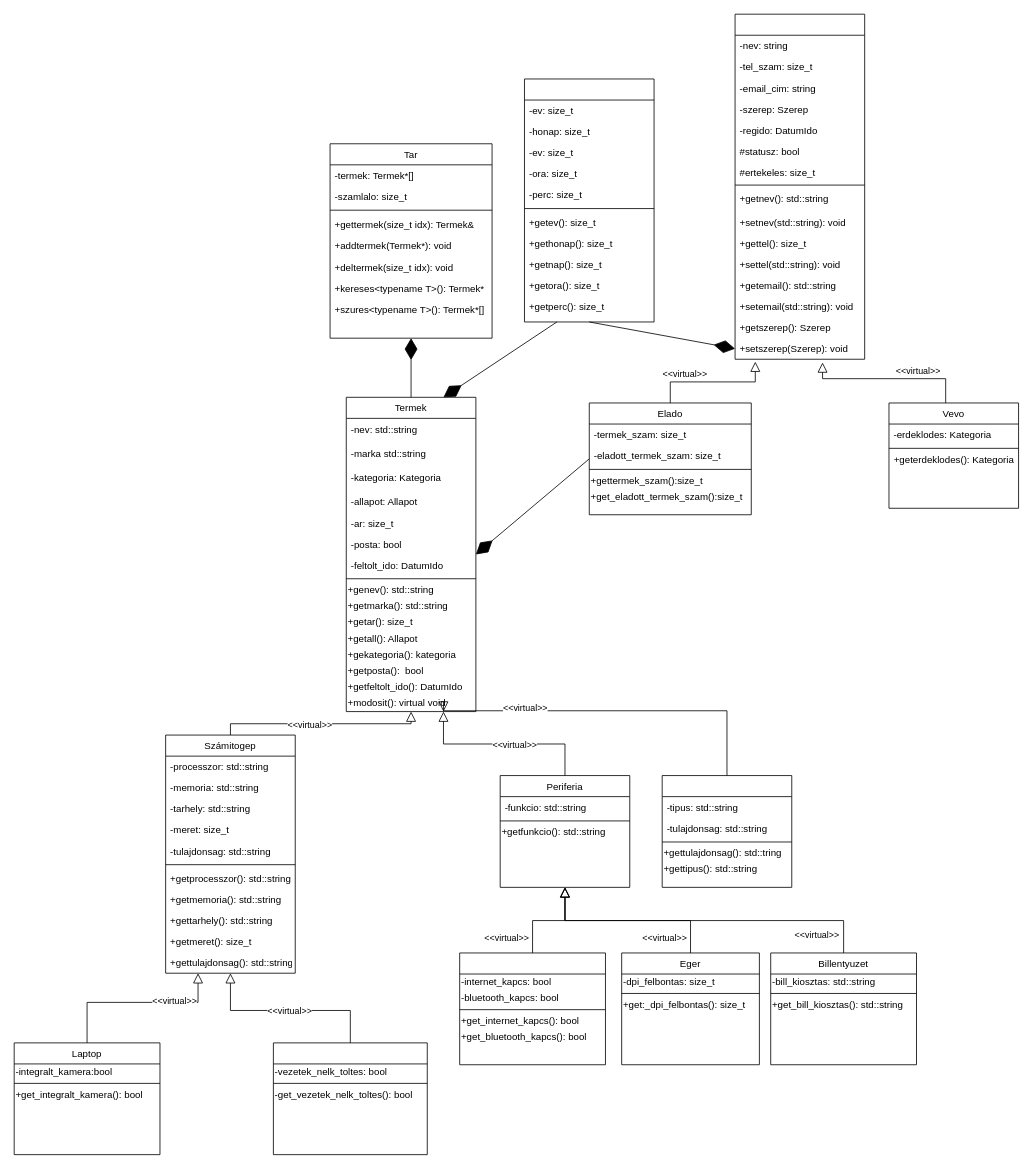
This 1033x1169 diagram has some shape labels left out. Each missing label, with the box of its shape:
DatumIdo: (524, 78, 654, 322)
Egyeb: (661, 775, 792, 887)
Nyomtato: (459, 952, 605, 1065)
Okostelefon: (273, 1042, 427, 1155)
Szemely: (734, 13, 865, 359)
